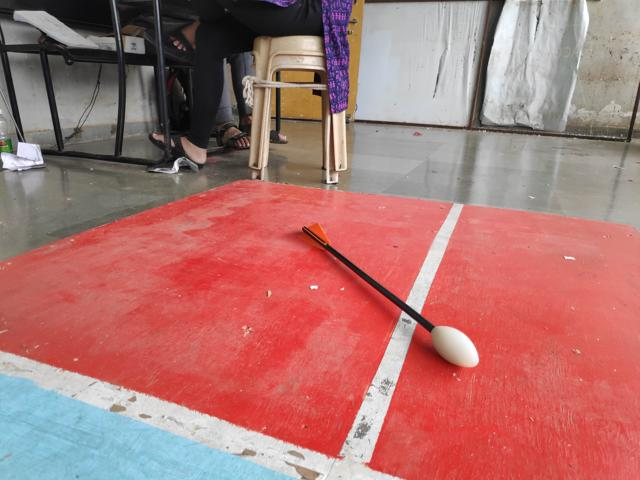Head: (428, 322, 481, 369)
Tail: (299, 219, 333, 253)
